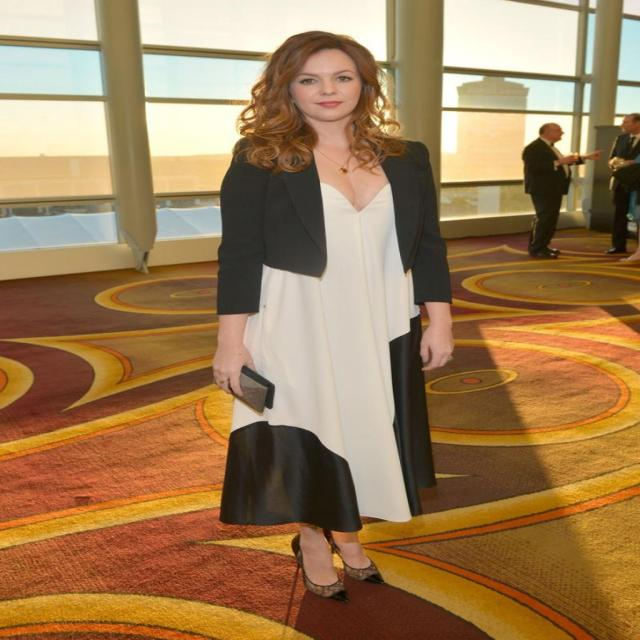Face: (293, 49, 364, 123)
